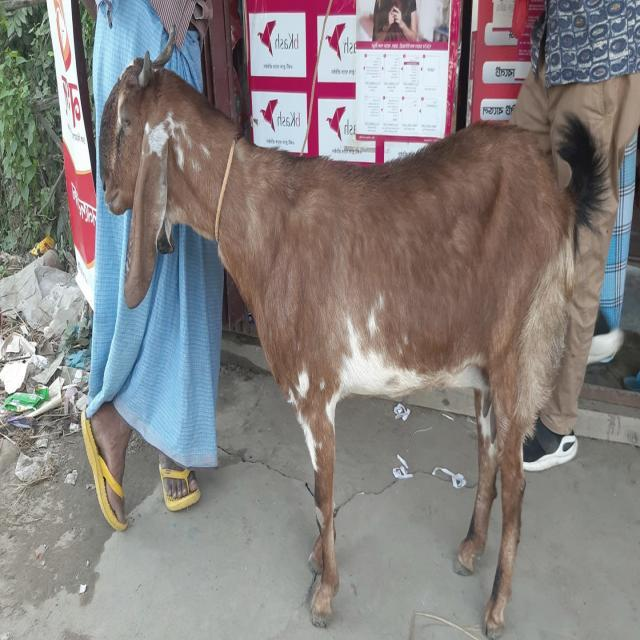Goat: (98, 27, 614, 635)
